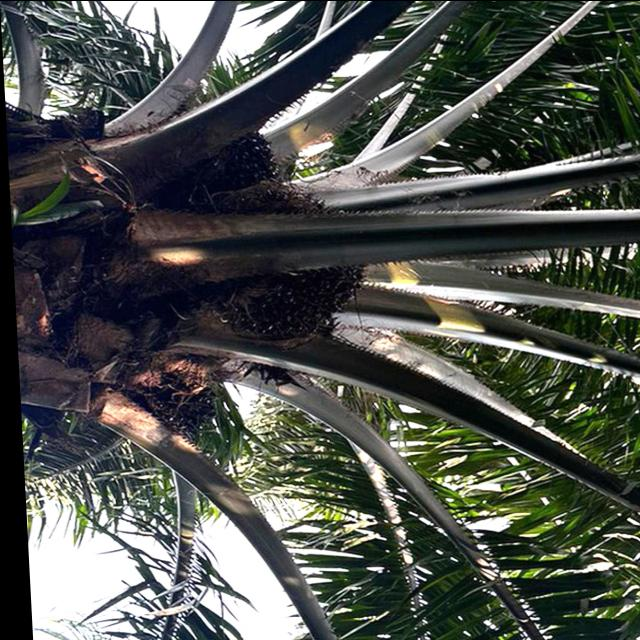unripe: (192, 185, 375, 347), (148, 125, 288, 218), (128, 364, 220, 442)
